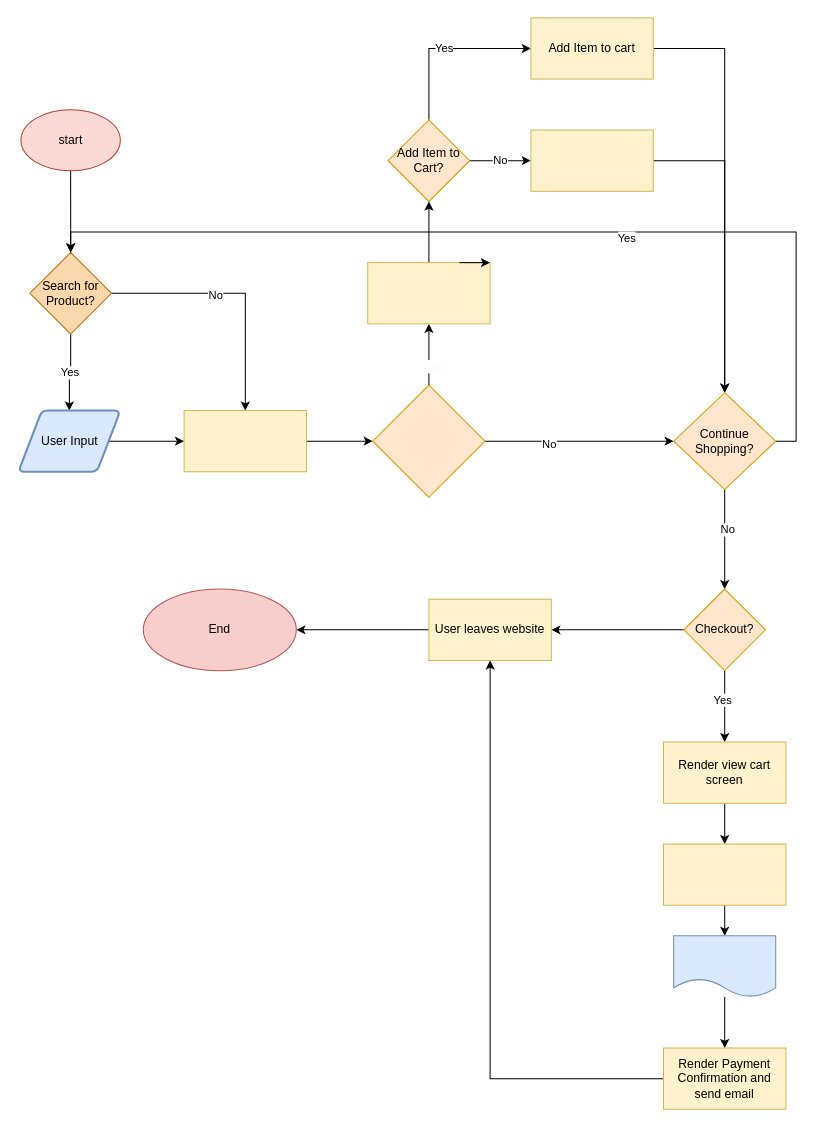
Some shapes in this 822 by 1127 pixel diagram are drawn without their labels. The box of each missing label's shape, as (x1, y1, x2, y2) in pixels:
Don't add item to cart: (530, 129, 653, 191)
Payment Info: (673, 935, 776, 997)
Render Product's Page: (367, 262, 490, 324)
Show Produccts: (183, 410, 307, 472)
View Payment Screen: (662, 843, 786, 905)
View Specific Product?: (372, 384, 485, 497)
